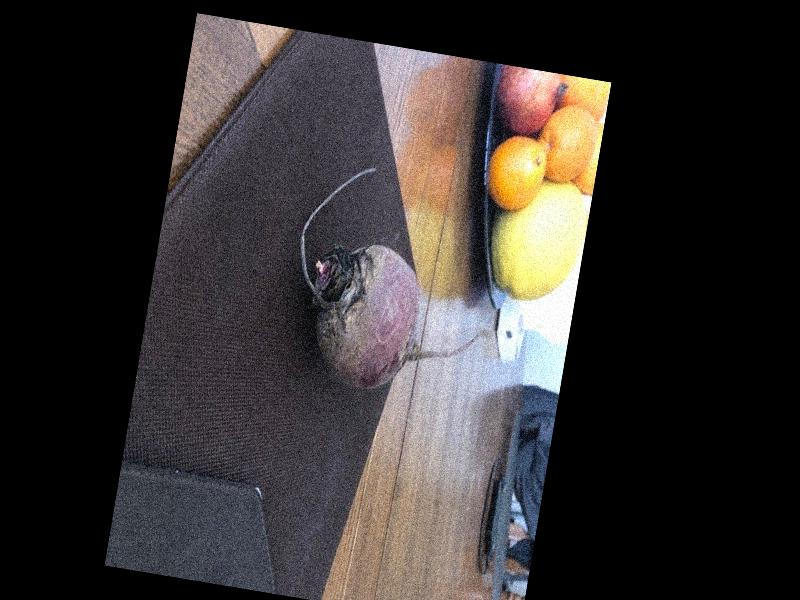Beet: (277, 157, 504, 406)
